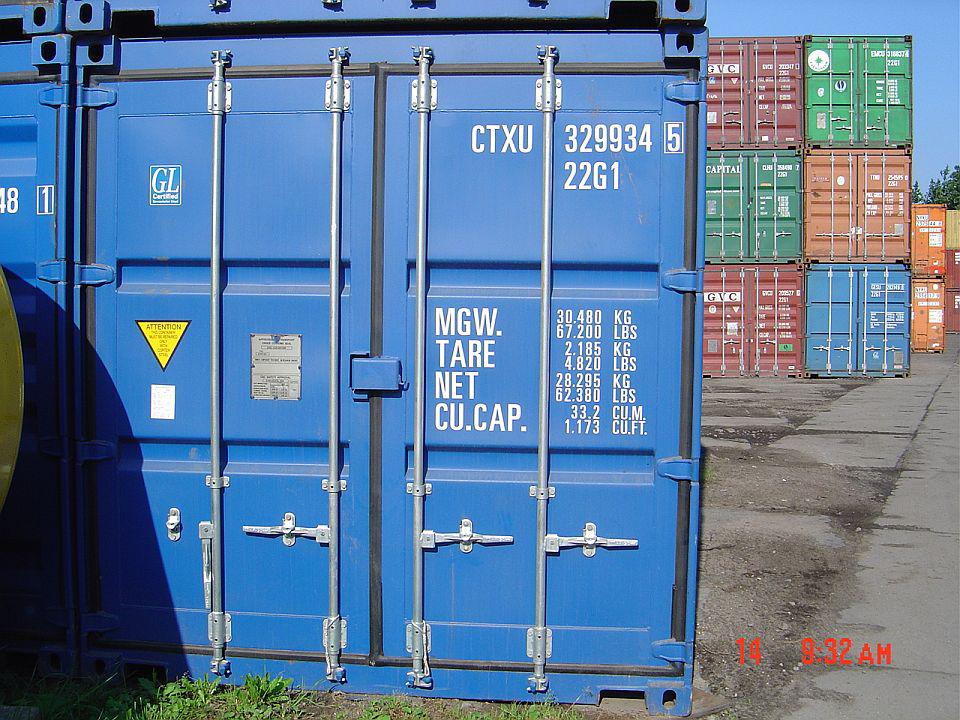ContainerNum: (468, 118, 687, 192)
